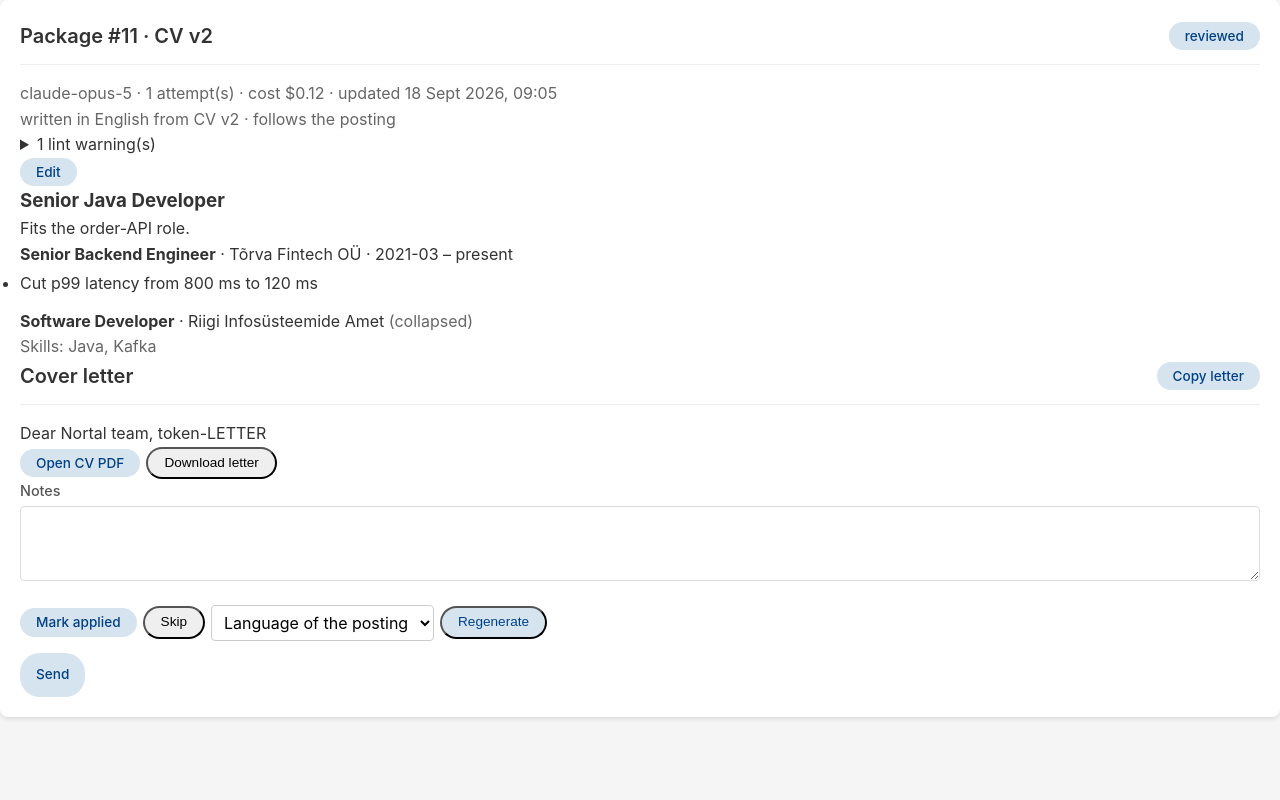
Test: PackageSend — the confirm dialog shows exactly the mail › From, Reply-To, Bcc, the recipients (the first chosen), Subject, the body as plain text, the attachment
Click the button "Send" at (53, 674), box [20, 652, 85, 696]
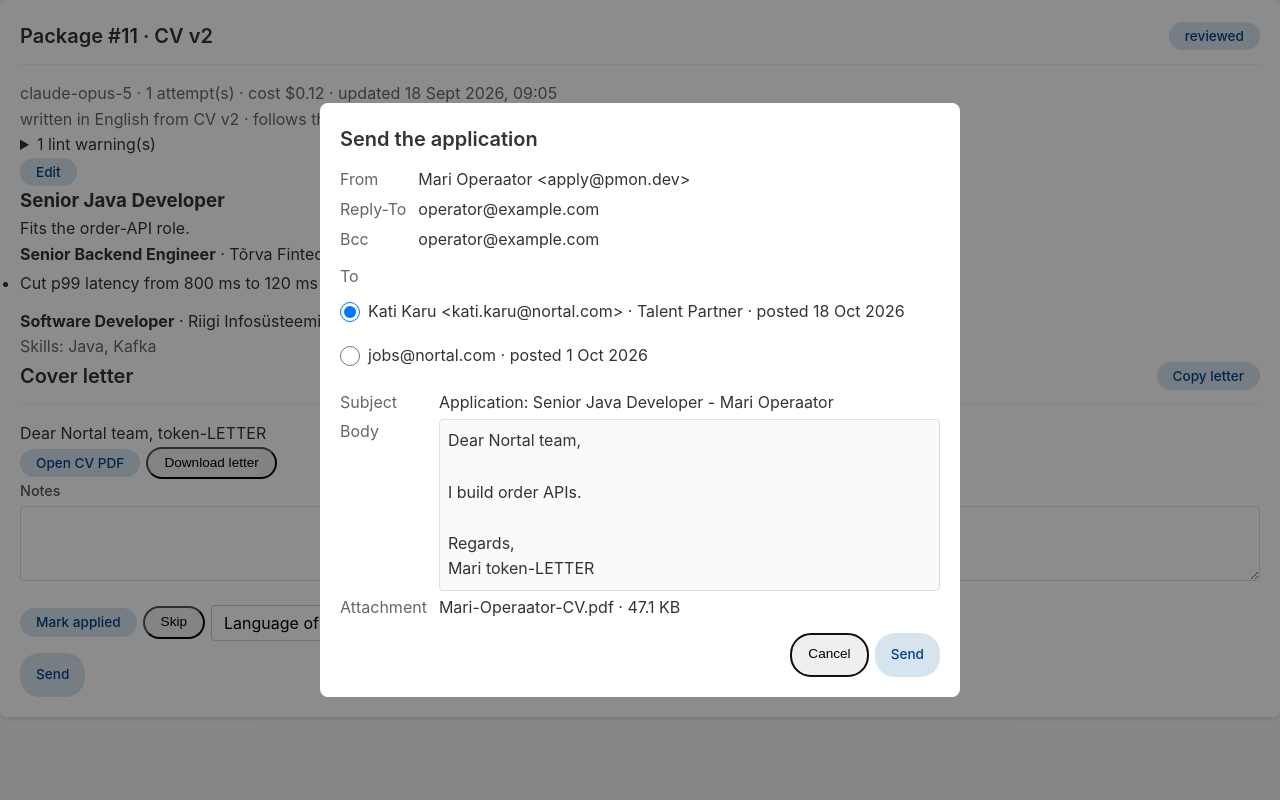
Expected: the text "Mari Operaator <apply@pmon.dev>" is shown, [418, 169, 690, 189]
Expected: the 1st text "operator@example.com" is shown, [418, 199, 599, 219]
Expected: the 2nd text "operator@example.com" is shown, [418, 229, 599, 249]
